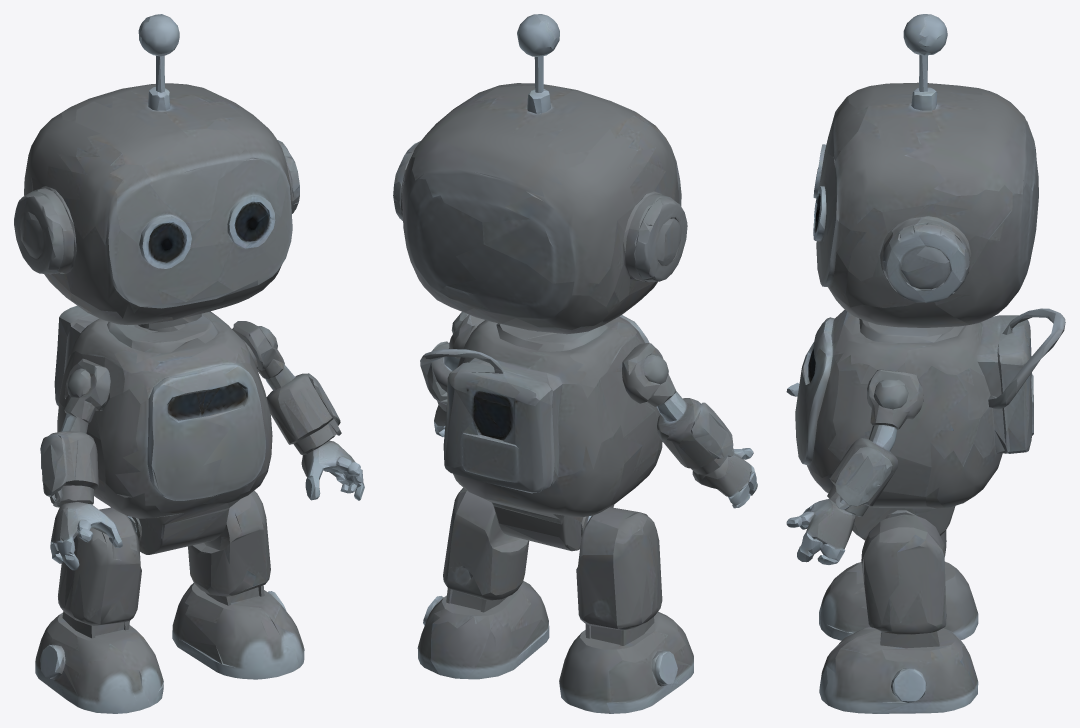
File: robot.3be01f4b.glb
3 renders of one model, left to right at view 1: azimuth 30°, elevation 25°; view 2: azimuth 150°, elevation 25°; view 3: azimuth 270°, elevation 25°, orthographic. The views are drawn at different scales.
Parts seen in each view (by area): view 1: output_unwrapped; view 2: output_unwrapped; view 3: output_unwrapped.
Part boxes in pixels (x1,y1,x2,y2): output_unwrapped: (14, 14, 364, 713); output_unwrapped: (393, 14, 757, 713); output_unwrapped: (786, 14, 1065, 713).
Size of the model in its own units: 0.9464 by 1.9 by 0.7466.
1 material, 1 textured.
